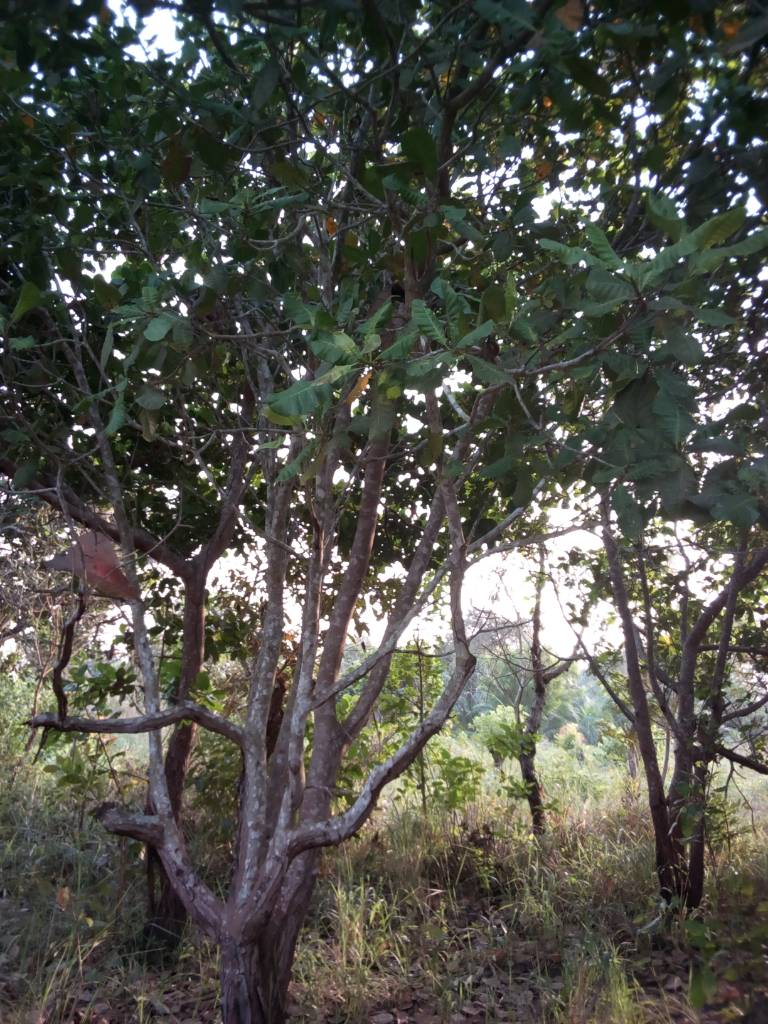Helopeltis anacardii: (641, 210, 768, 282), (261, 355, 360, 417), (543, 233, 604, 264), (410, 297, 450, 342)
